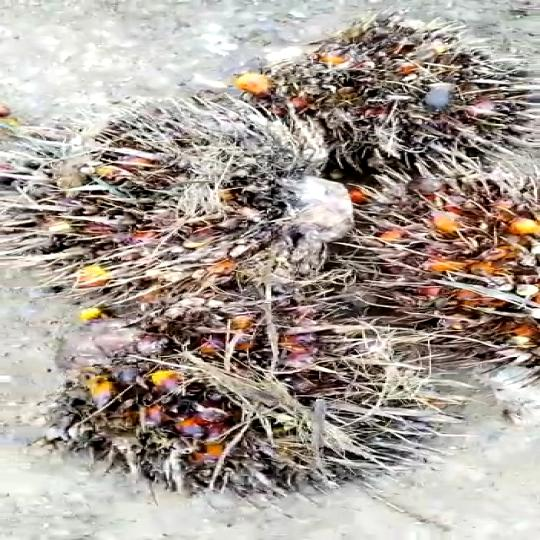terlalu masak: (90, 315, 449, 493), (4, 99, 334, 292), (248, 19, 539, 164), (375, 173, 540, 364)
